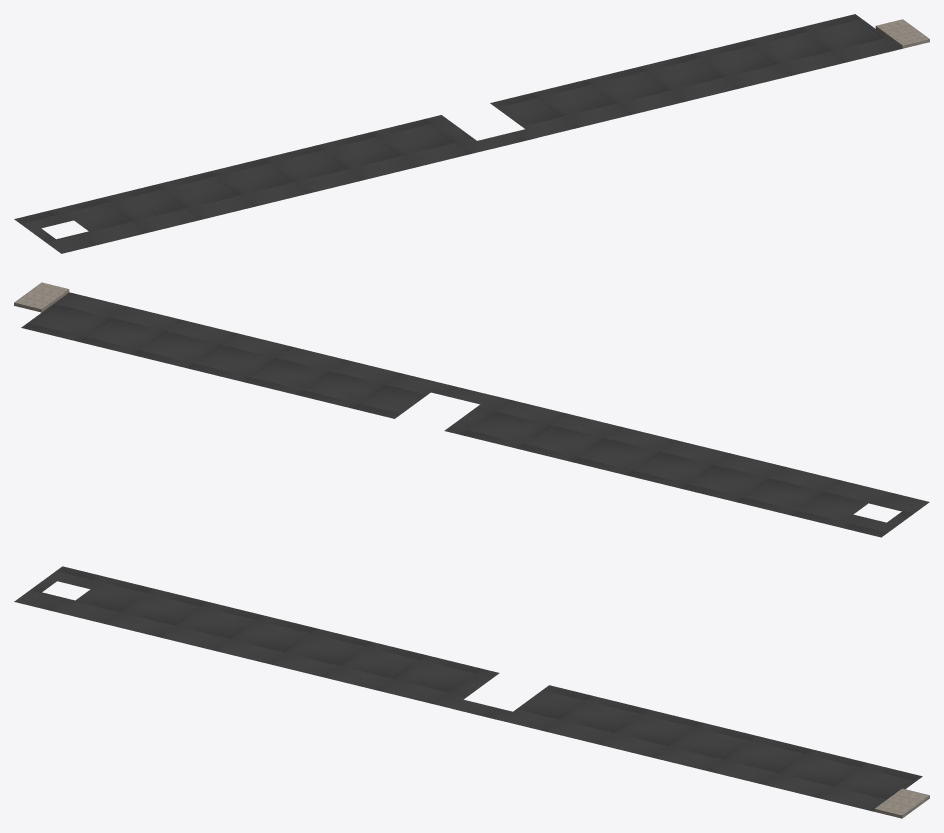
File: roof_1st_left.fbx
The picture shows the model from 3 angles, top to bottom: view 1: azimuth 30°, elevation 25°; view 2: azimuth 150°, elevation 25°; view 3: azimuth 330°, elevation 25°; orthographic projection. The views are drawn at different scales.
Parts seen in each view (by area): view 1: Plane.001; view 2: Plane.001; view 3: Plane.001.
Part boxes in pixels (<box>): Plane.001: <box>14,14,929,253</box>; Plane.001: <box>14,282,929,537</box>; Plane.001: <box>14,566,929,818</box>.
Bounding box in the file's own units: 25949 × 88.79 × 2458.
